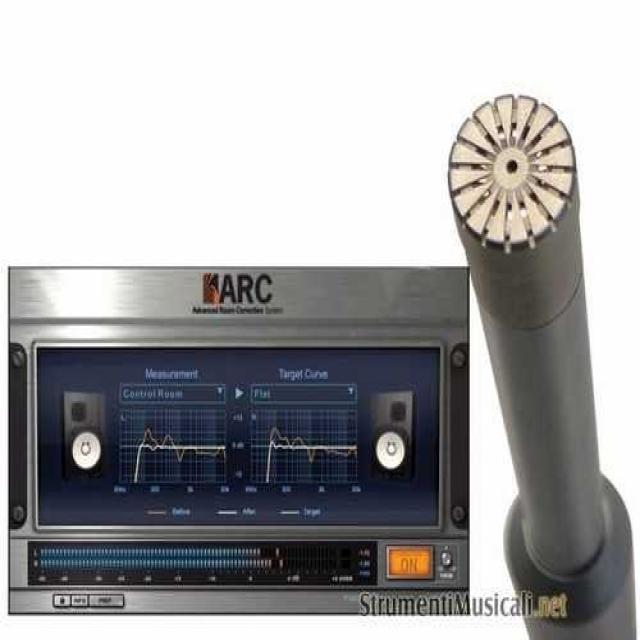microphone: (444, 74, 618, 565)
